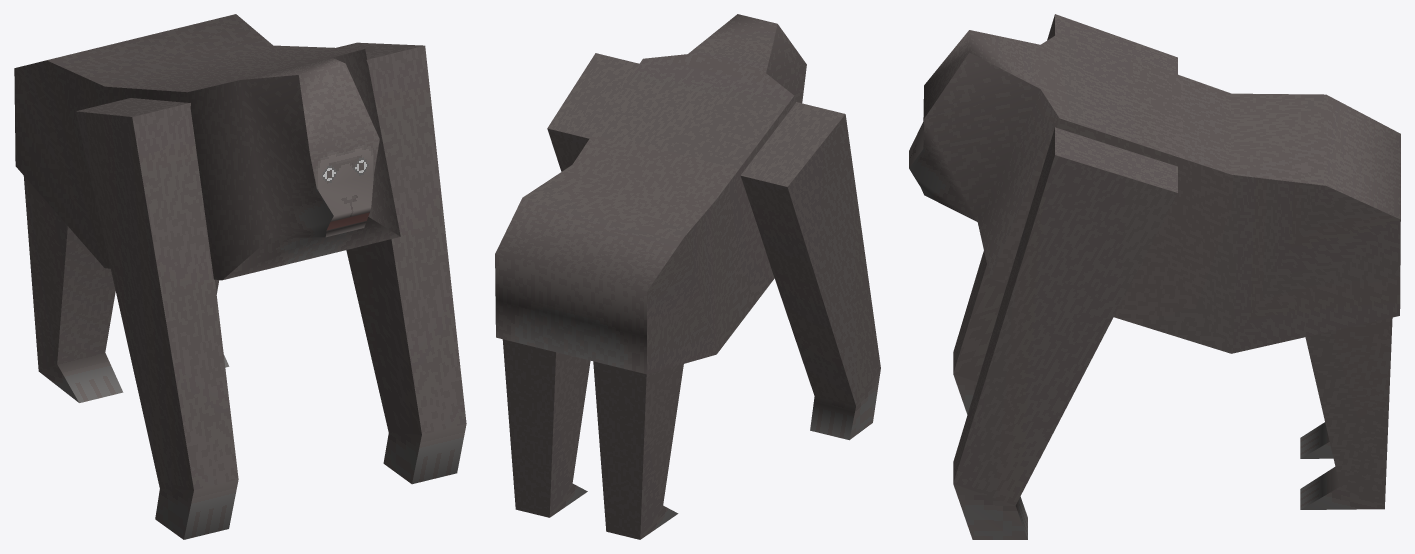
The model's file is 0a24_Gorilla.glb.
3 views of the same model, side by side, from view 1: azimuth 30°, elevation 25°; view 2: azimuth 150°, elevation 25°; view 3: azimuth 270°, elevation 25° (orthographic). The views are drawn at different scales.
Parts seen in each view (by area): view 1: part_0; view 2: part_0; view 3: part_0.
Part boxes in pixels (left/top/right/bottom): part_0: left=14, top=14, right=466, bottom=539; part_0: left=495, top=14, right=880, bottom=539; part_0: left=909, top=14, right=1400, bottom=539.
Bounding box in the file's own units: 0.931 × 1.33 × 1.37.
Materials: 1 (1 with a texture image).
